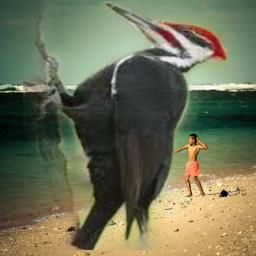Woodpecker: (23, 1, 227, 250)
